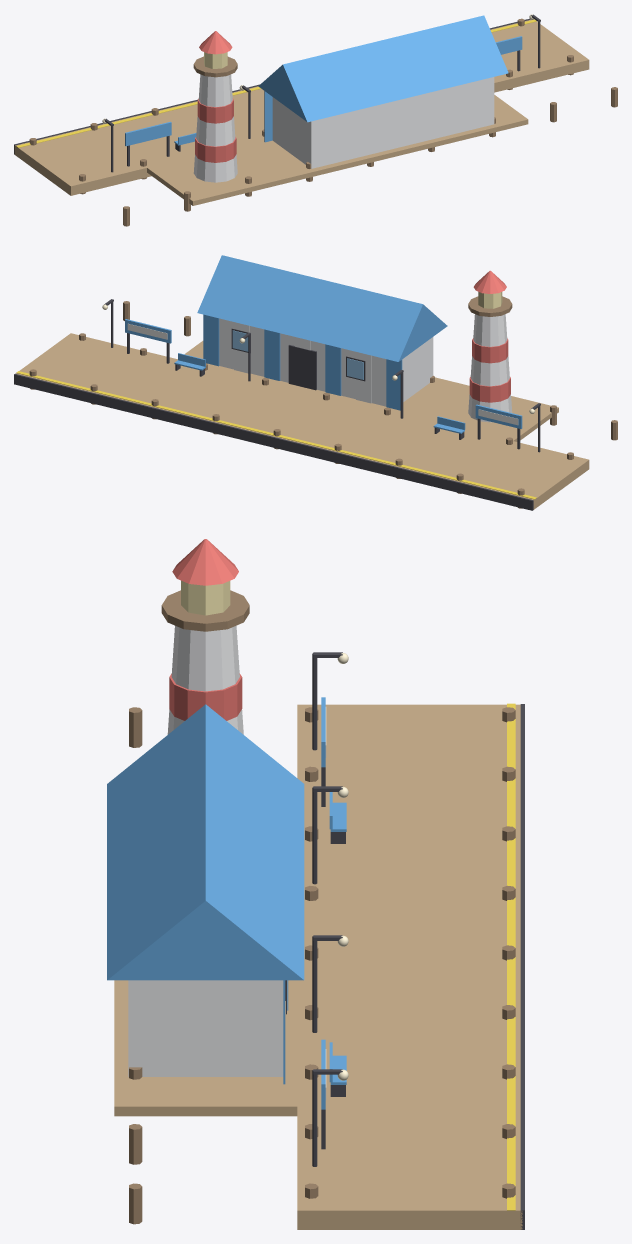
Rendered from Station_ocean.fbx.
The picture shows the model from 3 angles, top to bottom: view 1: azimuth 30°, elevation 25°; view 2: azimuth 150°, elevation 25°; view 3: azimuth 270°, elevation 25°; orthographic projection. The views are drawn at different scales.
Parts seen in each view (by area): view 1: Station_ocean; view 2: Station_ocean; view 3: Station_ocean.
Part boxes in pixels (x1=…): Station_ocean: x1=14, y1=14, x2=617, y2=226; Station_ocean: x1=14, y1=255, x2=617, y2=510; Station_ocean: x1=107, y1=539, x2=524, y2=1229.
Size of the model in its own units: 34 by 9.7 by 11.86.
